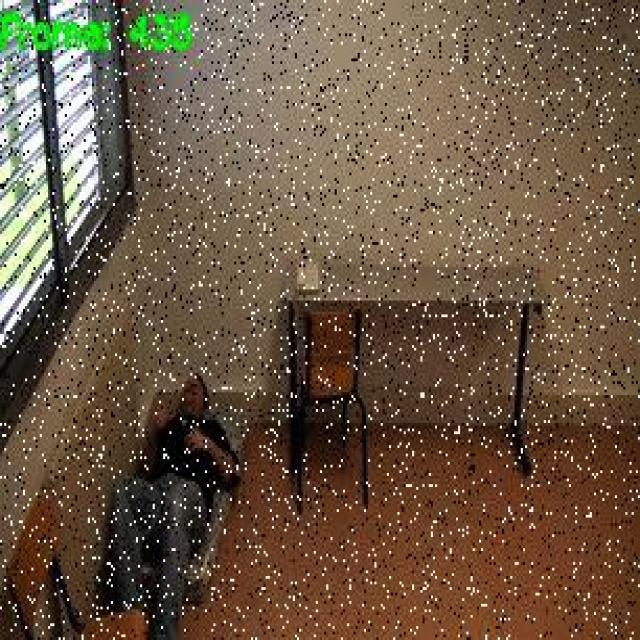fall: (111, 362, 240, 638)
